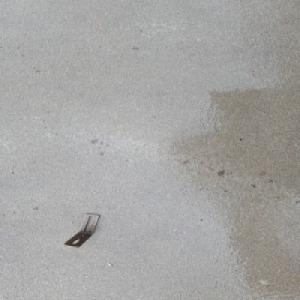MetalPart: (62, 212, 101, 248)
